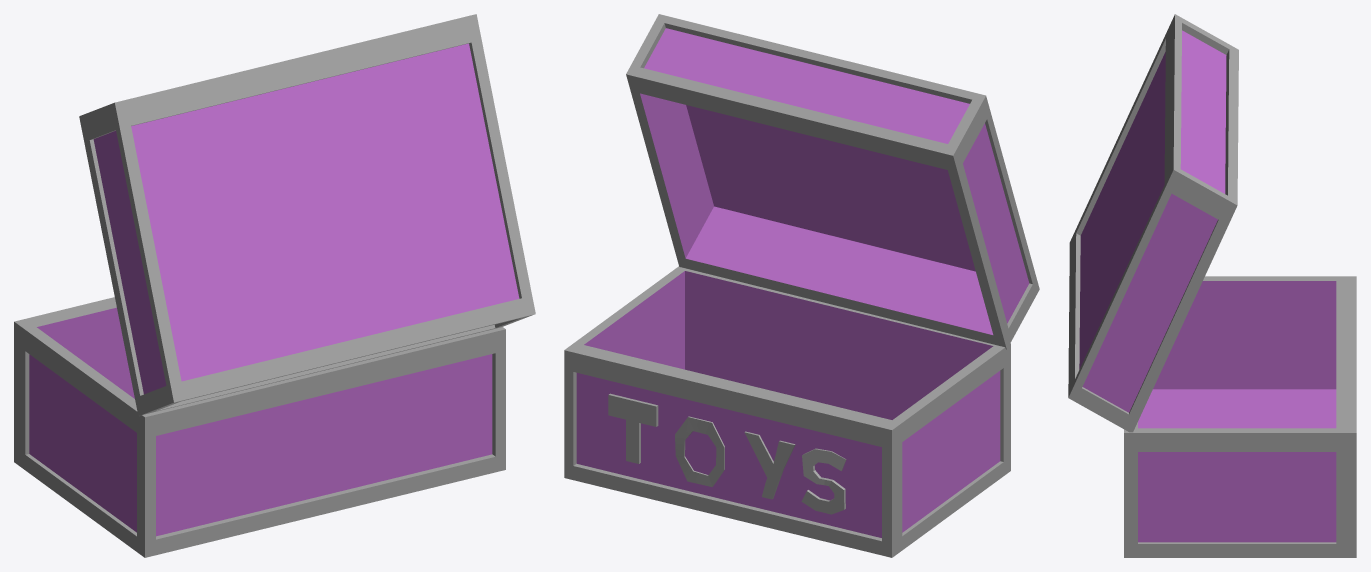
Rendered from ToyBox.fbx.
3 views of the same model, side by side, from view 1: azimuth 30°, elevation 25°; view 2: azimuth 150°, elevation 25°; view 3: azimuth 270°, elevation 25° (orthographic). The views are drawn at different scales.
Parts seen in each view (by area): view 1: pasted__ToyBoxLid, pasted__pasted__pasted__pCube1; view 2: pasted__ToyBoxLid, pasted__pasted__pasted__pCube1, pasted__ToyBoxTLetter, pasted__ToyBoxS, pasted__pCube2, pasted__ToyBoxY; view 3: pasted__pasted__pasted__pCube1, pasted__ToyBoxLid.
Boxes of the visible parts, x1,y1,x2,y2 form: pasted__ToyBoxLid: (79, 14, 535, 416); pasted__pasted__pasted__pCube1: (14, 297, 505, 557); pasted__ToyBoxLid: (626, 14, 1039, 349); pasted__pasted__pasted__pCube1: (564, 266, 1010, 557); pasted__ToyBoxTLetter: (608, 393, 658, 463); pasted__ToyBoxS: (801, 448, 846, 514); pasted__pCube2: (675, 416, 724, 486); pasted__ToyBoxY: (744, 431, 795, 499); pasted__pasted__pasted__pCube1: (1124, 276, 1356, 557); pasted__ToyBoxLid: (1068, 14, 1238, 432).
Bounding box in the file's own units: 0.7287 × 0.8373 × 0.5643.
